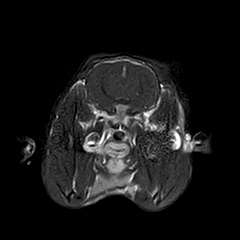Brain: (75, 33, 174, 131)
